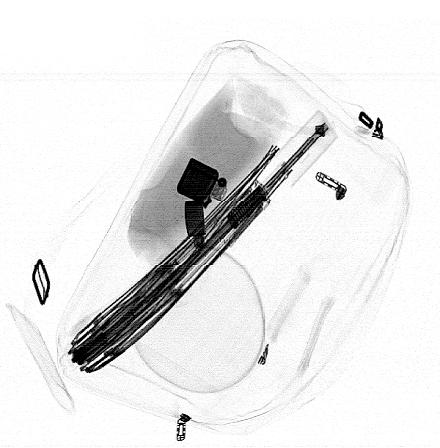Lighter: (176, 157, 228, 238)
